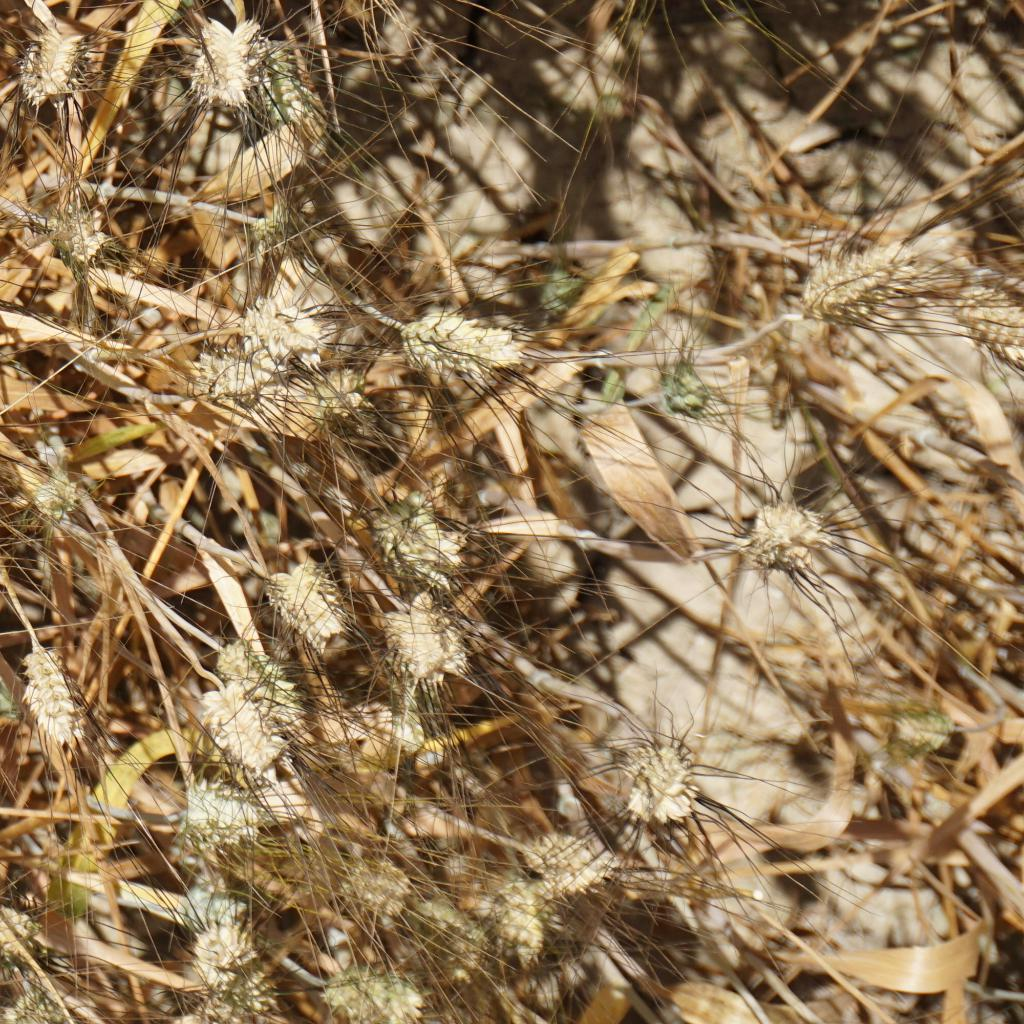0-0: (809, 233, 938, 324), (226, 640, 329, 740), (377, 589, 473, 696), (400, 305, 506, 400), (868, 696, 972, 779), (945, 264, 1022, 371), (745, 489, 836, 577), (201, 676, 280, 775), (376, 487, 460, 579), (324, 955, 432, 1024), (190, 9, 265, 108), (15, 630, 83, 739), (455, 873, 548, 952), (263, 561, 349, 643), (11, 14, 86, 106), (247, 292, 327, 375), (257, 47, 335, 132), (628, 736, 700, 827), (176, 776, 267, 844), (309, 374, 392, 446), (515, 822, 601, 888), (187, 912, 264, 982), (190, 341, 271, 405), (364, 698, 432, 771), (48, 200, 113, 275), (351, 851, 423, 918), (251, 199, 325, 261), (652, 354, 720, 420), (21, 456, 75, 521), (0, 900, 48, 967), (182, 981, 243, 1024), (14, 989, 66, 1024)
